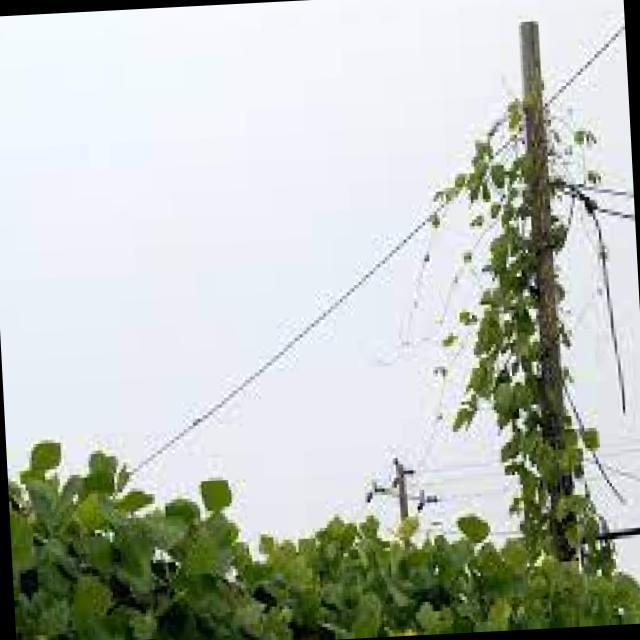critical vegetation: (420, 97, 634, 530)
